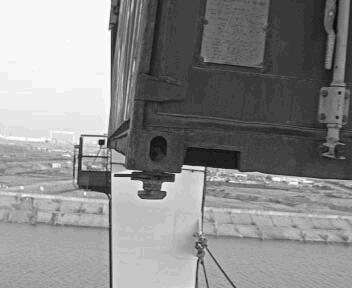twist_lock_1: (124, 169, 181, 210)
